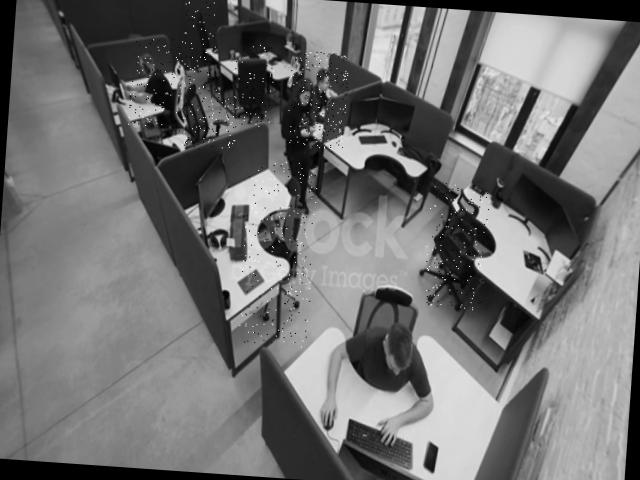empty chair: (237, 159, 319, 347), (422, 181, 491, 310), (230, 38, 276, 128), (181, 82, 239, 152), (179, 0, 219, 76)
occupiedchair: (336, 268, 427, 410), (127, 35, 197, 132), (289, 51, 349, 149)
